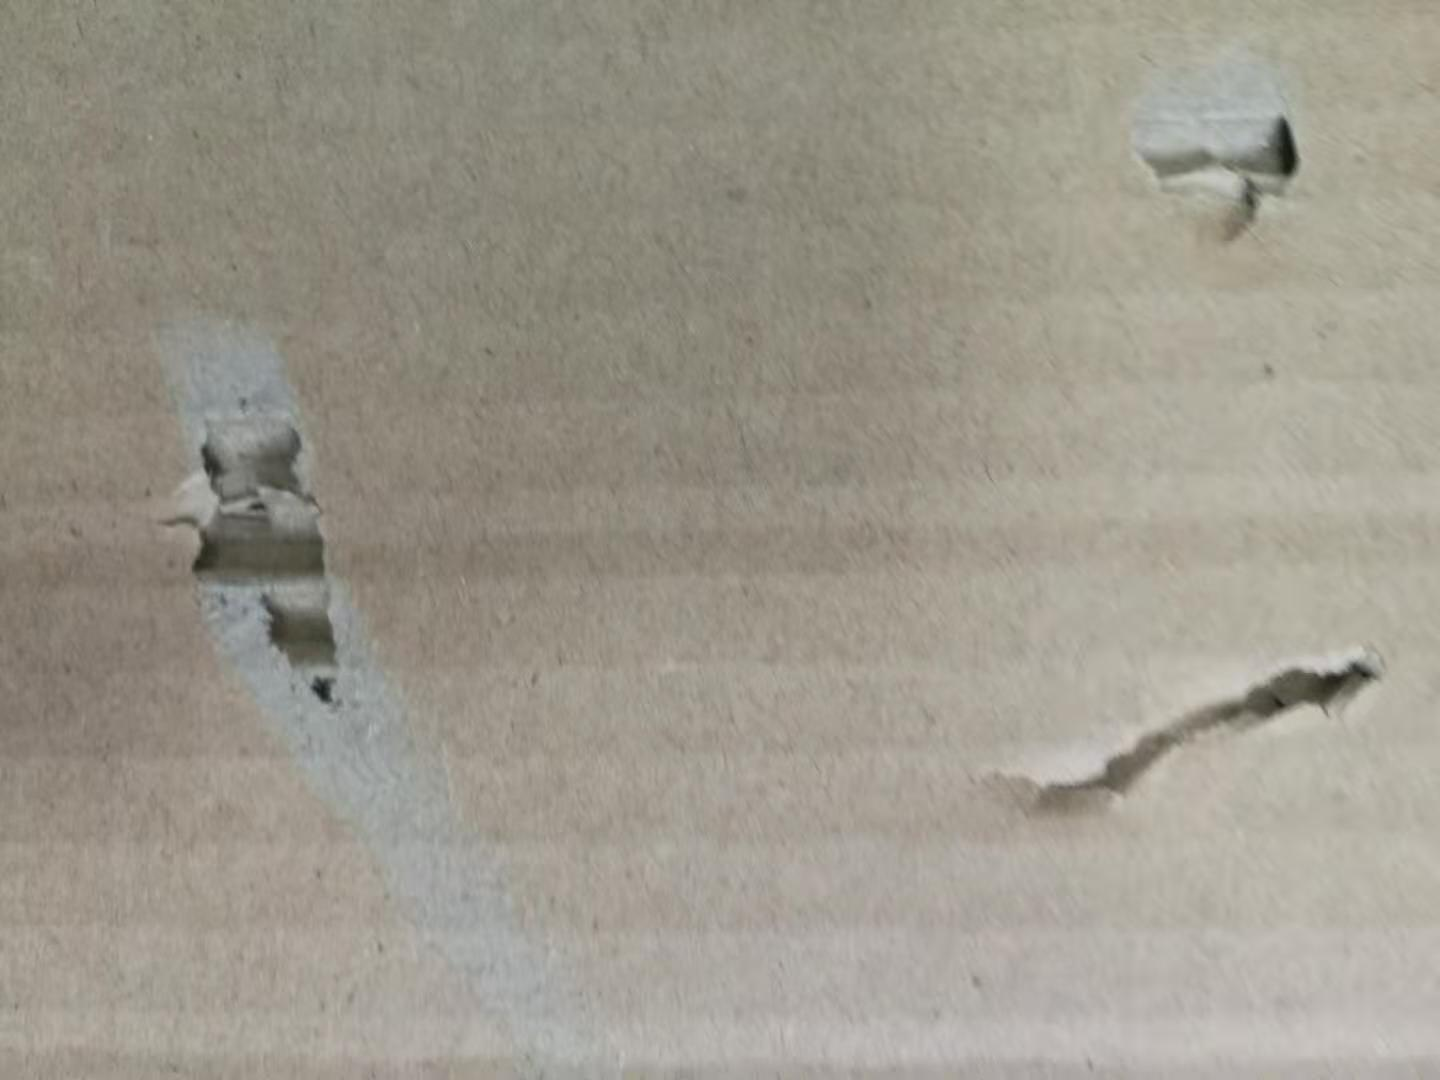defect: (132, 259, 638, 1080), (945, 625, 1409, 846), (1104, 31, 1329, 281)
